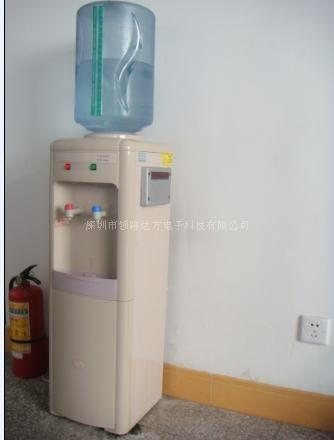APAR: (7, 263, 45, 378)
Dispenser: (46, 0, 172, 435)
